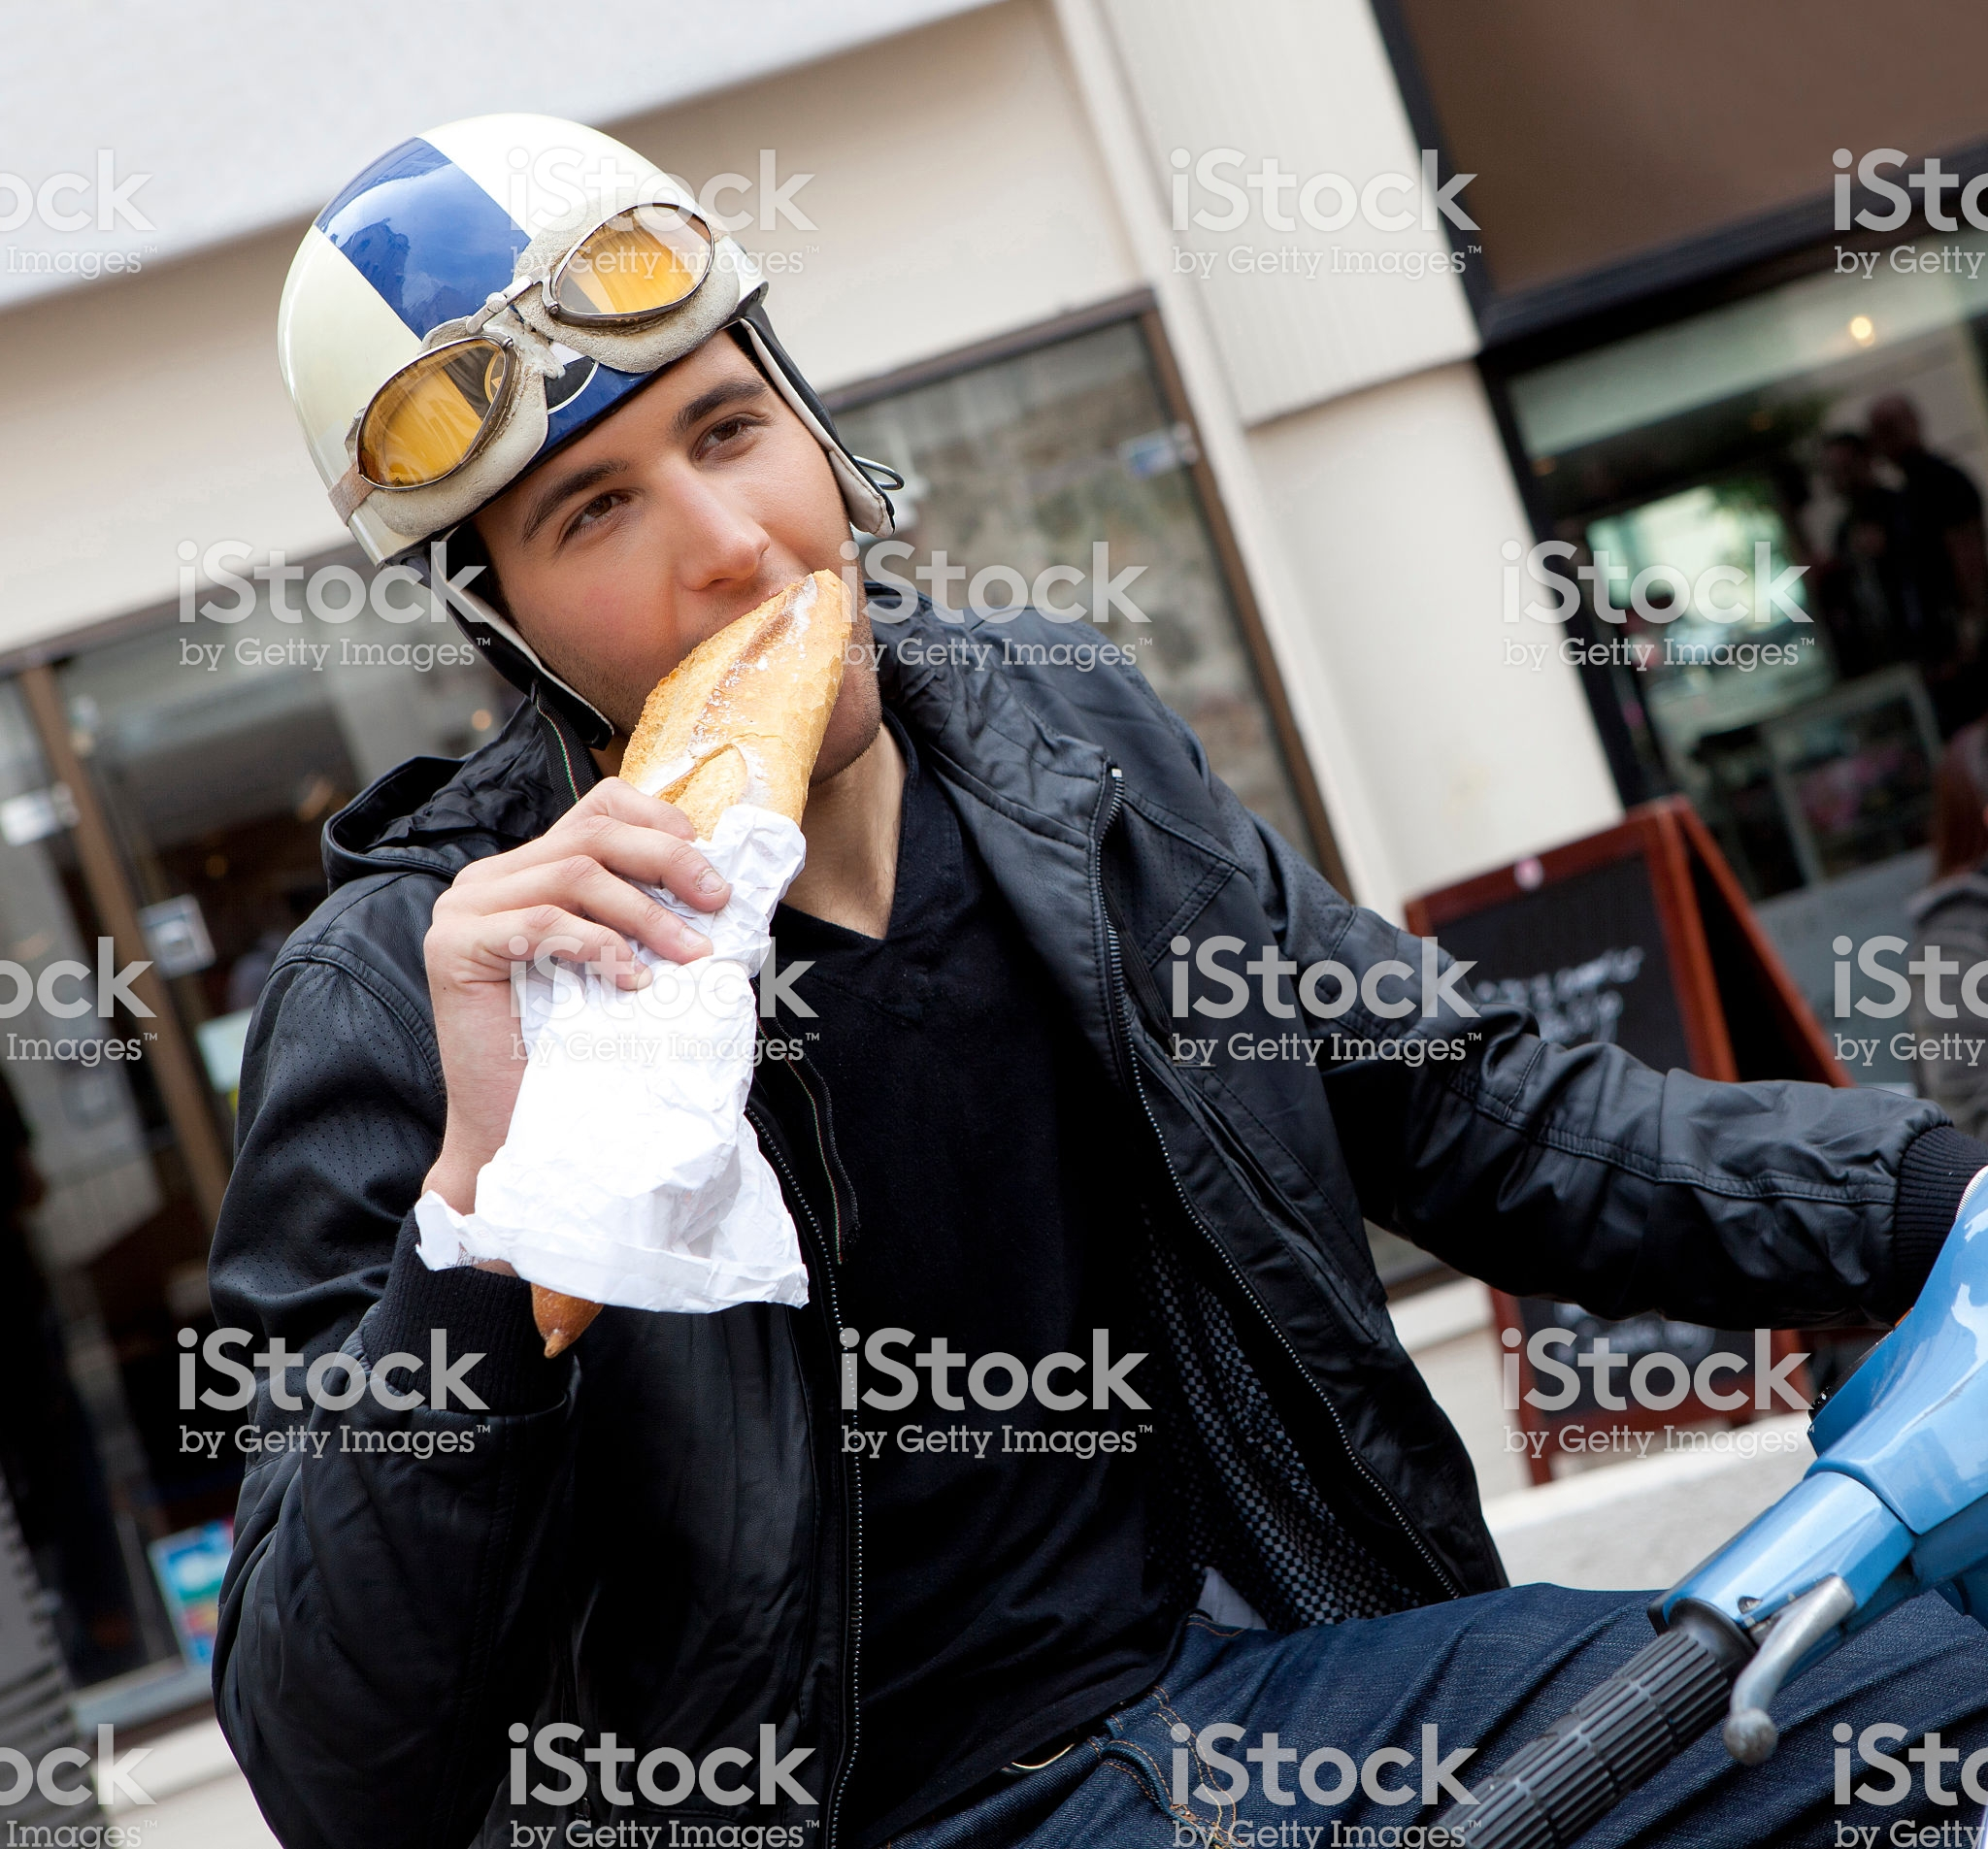helmet: (248, 111, 752, 577)
